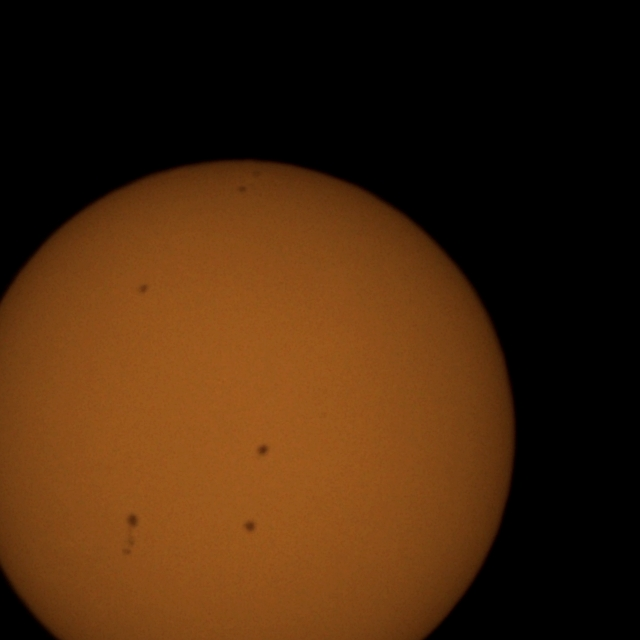sunspot: (120, 519, 141, 558), (242, 518, 259, 534), (125, 512, 140, 530), (256, 442, 270, 459), (137, 282, 149, 296)
